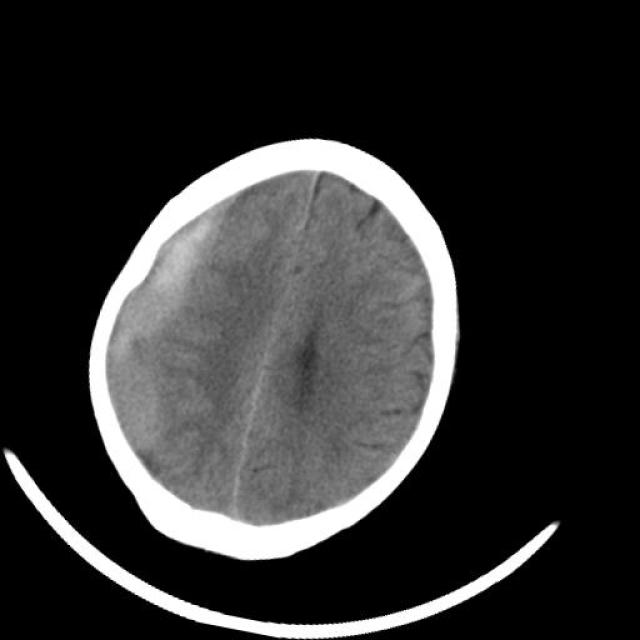Subdural: (63, 159, 265, 499)
